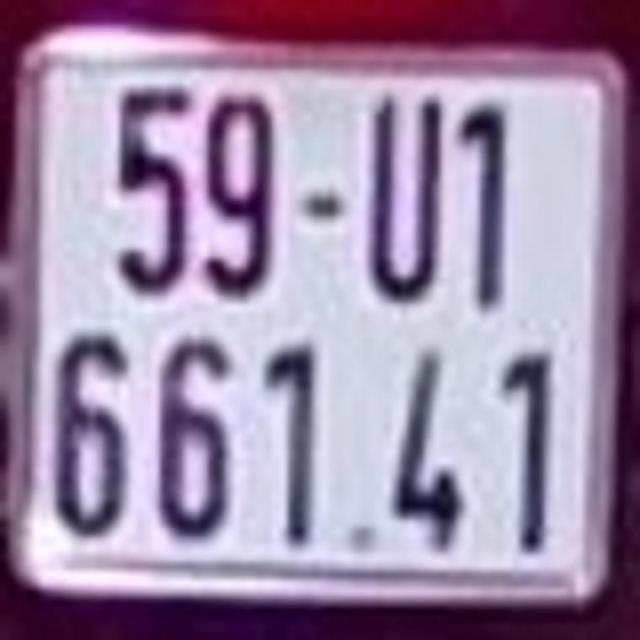1: (254, 309, 337, 556), (452, 77, 522, 340), (492, 346, 567, 560)
4: (382, 347, 469, 560)
5: (106, 58, 200, 312)
6: (45, 310, 135, 556), (152, 308, 241, 550)
9: (197, 58, 279, 312)
U: (356, 56, 452, 322)
